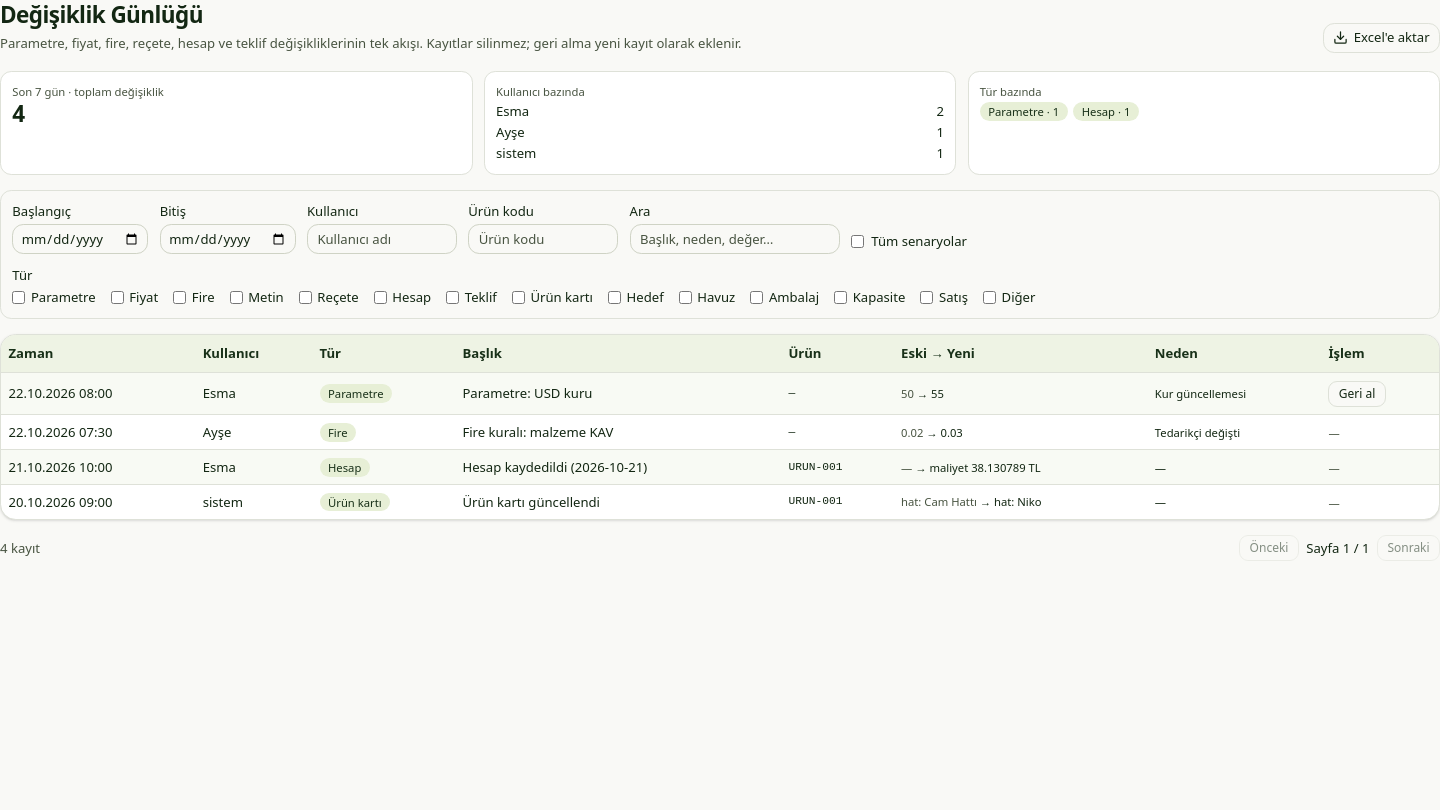
Test: Değişiklik Günlüğü › geri al yalnız geri alınabilir satırda; onaydan sonra geri_al yoluna gövdeyle POST eder
expect the text "Parametre: USD kuru" is shown: met, box [455,372,781,415]
Click the button with aria-label "Geri al parametre:12" at (1357,394), box [1328,380,1386,407]
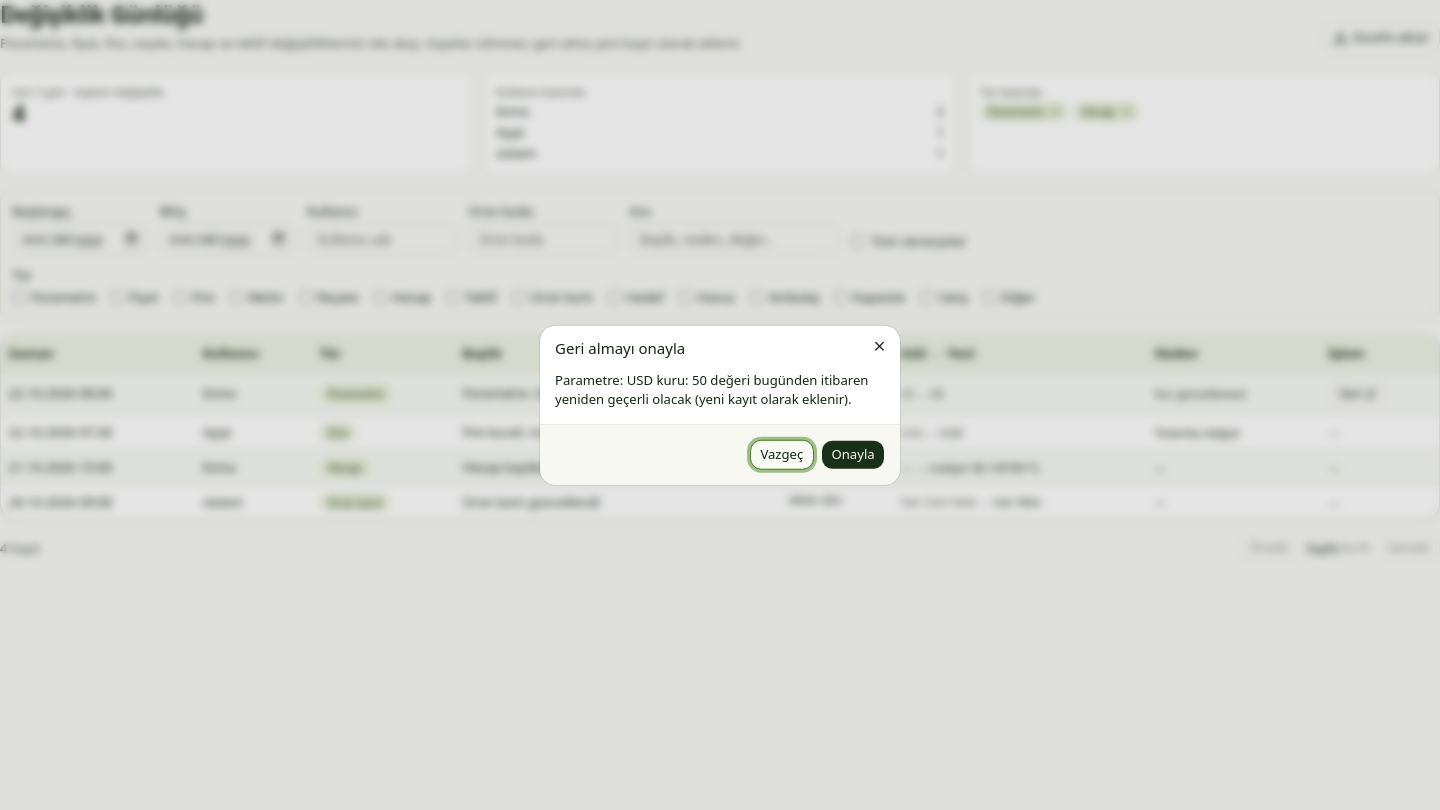
expect the text "Parametre: USD kuru: 50 değeri bugünden itibaren yeniden geçerli olacak" is shown: met, box [555,371,868,408]
Click the button "Onayla" at (853,454), box [821,439,885,469]
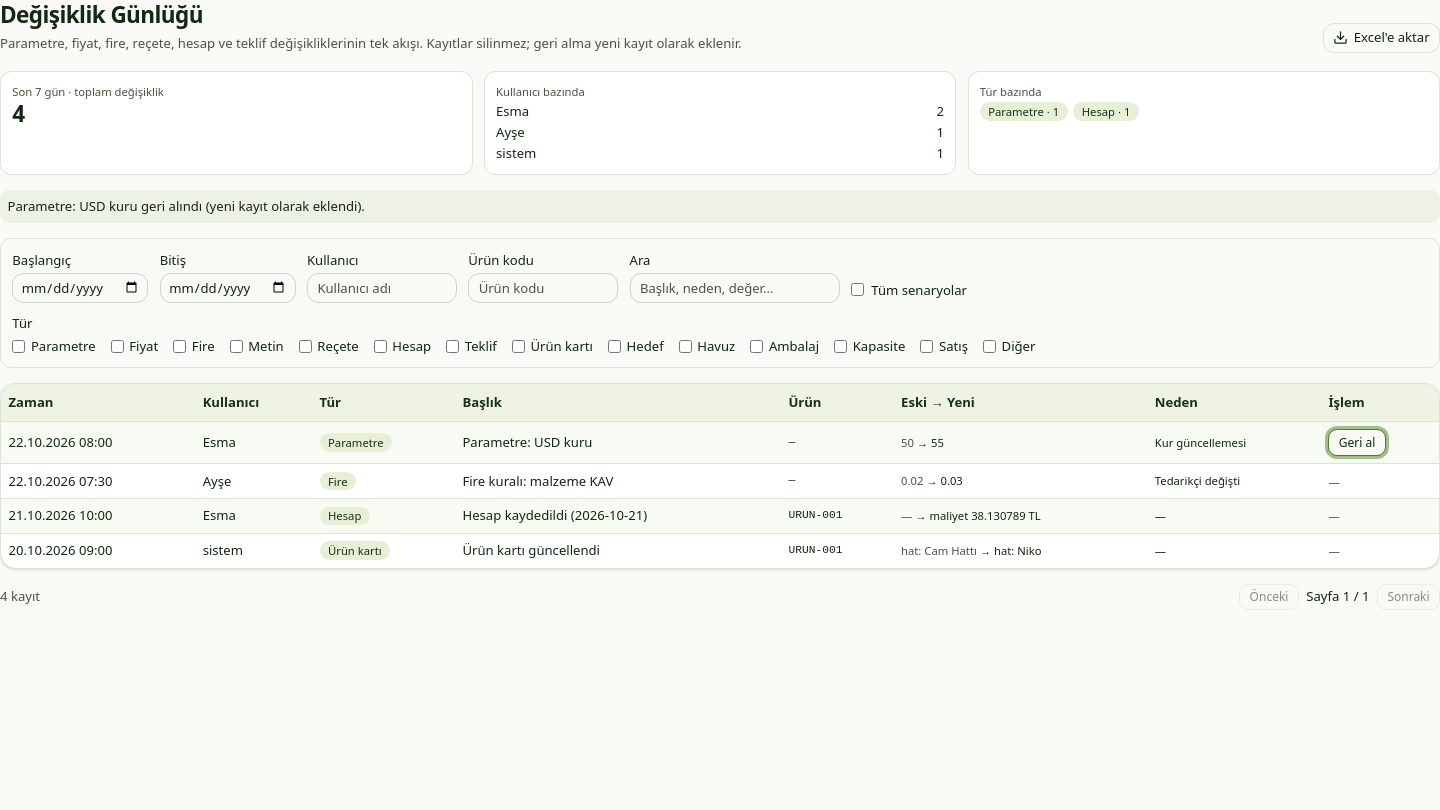
expect the text "Parametre: USD kuru geri alındı (yeni kayıt olarak eklendi)." is shown: met, box [0,190,1439,223]
expect the dialog is gone: met
